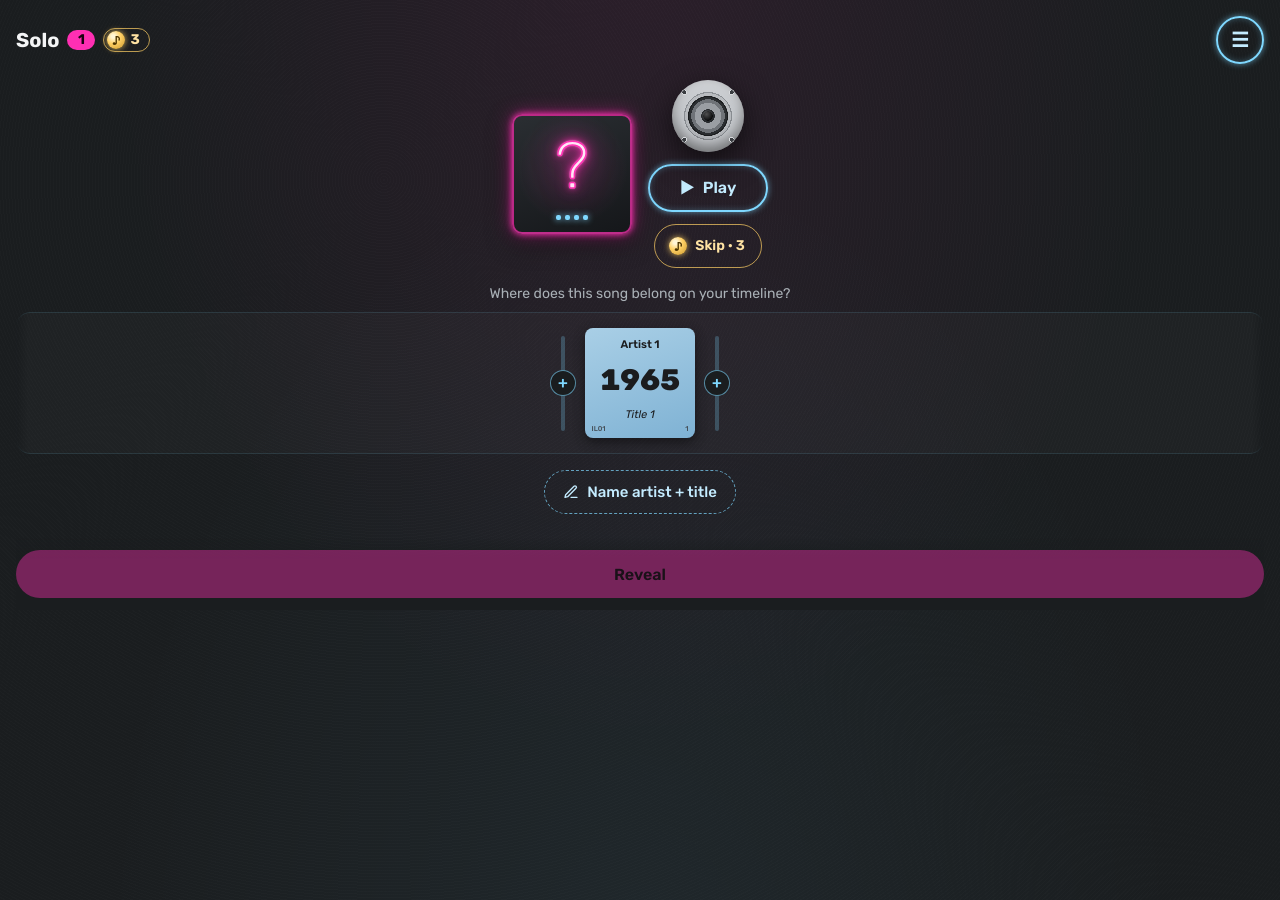
Test: GameScreen with tokens and bets: the turn › when nobody could bet: Reveal, no Lock in, Skip works; a card alone earns no token (e.g. a 1-player game)
Expected: the button with test id "btn-skip-song" is shown, [654,224,762,268]
Click the 2nd button with test id "timeline-slot".
click(717, 383)  # box [695,324,739,442]
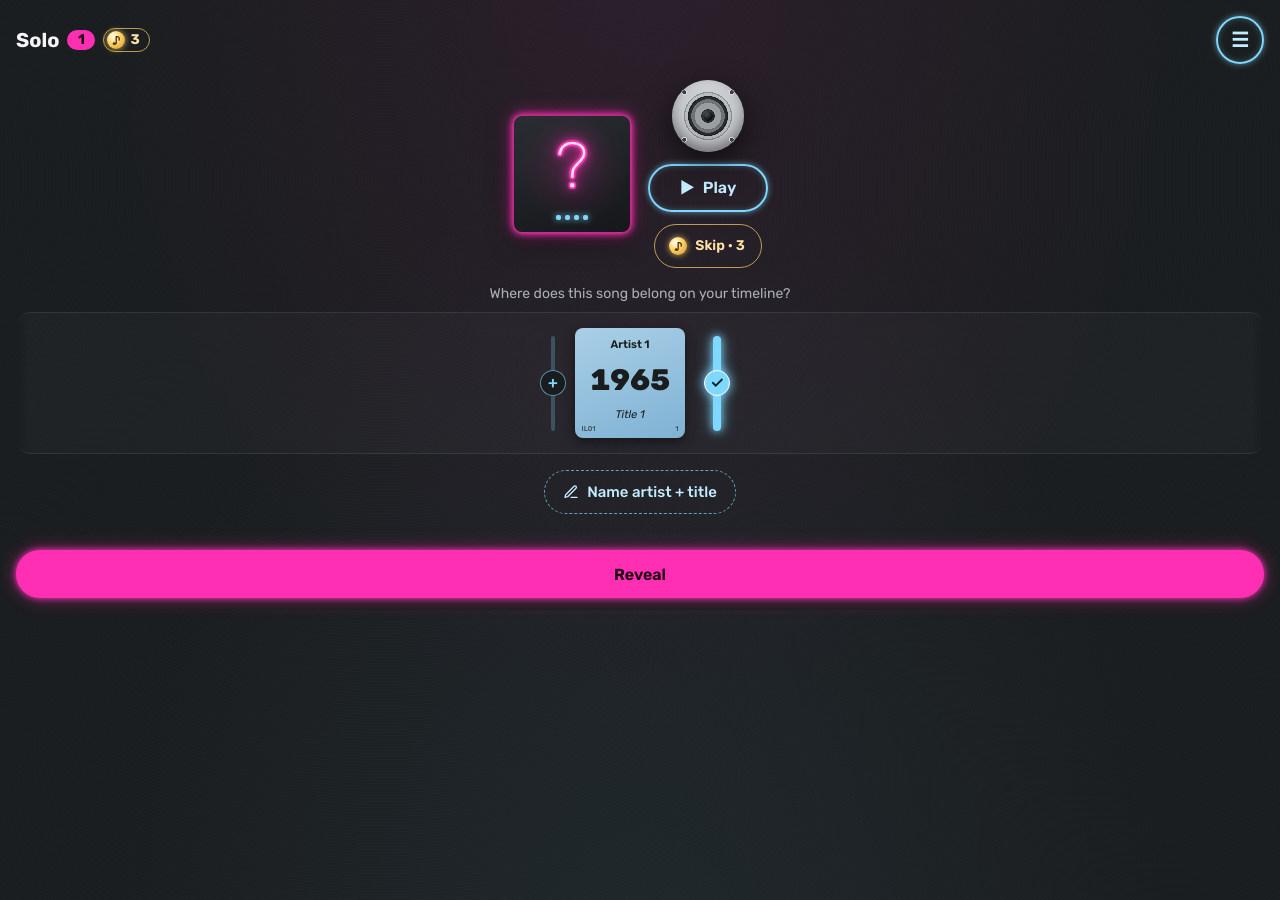
Click the button with test id "btn-reveal".
click(640, 574)  # box [16,550,1264,598]
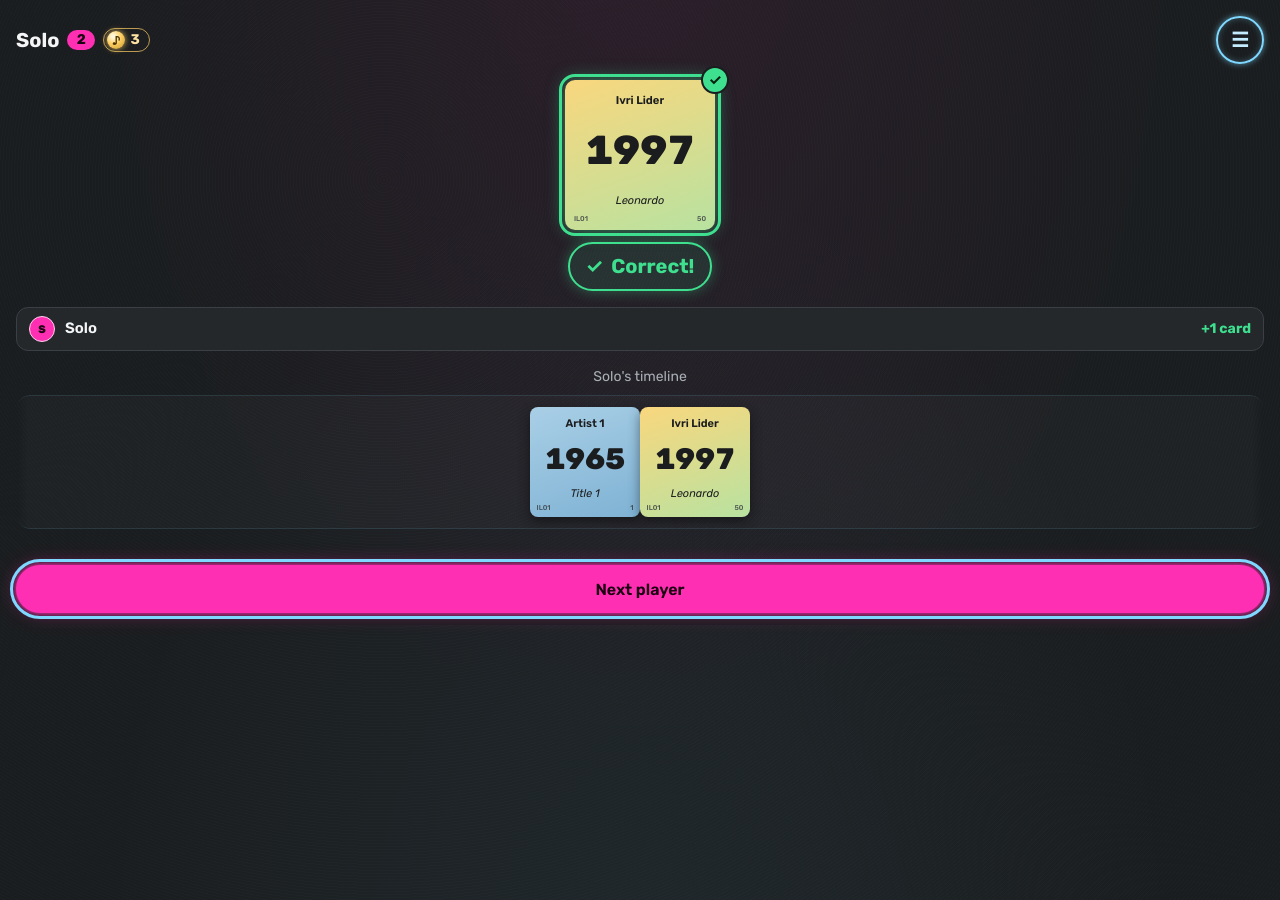
Expected: the picture with test id "current-player-tokens" shows "3", [130,31,140,48]
Now the message "Correct!" is shown, box [568,242,712,291]
